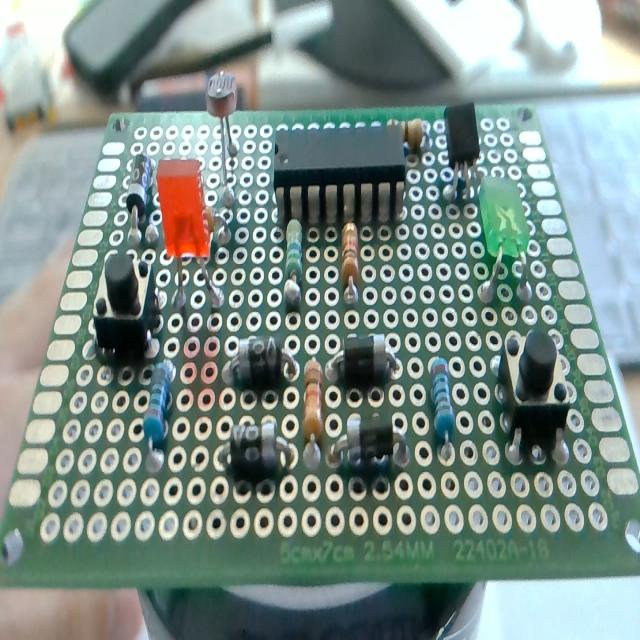IC: (271, 125, 406, 222)
cds: (204, 67, 241, 201)
diode: (215, 414, 293, 478), (331, 409, 409, 471), (326, 330, 402, 386), (224, 335, 296, 386), (127, 148, 154, 242)
led: (154, 156, 221, 304), (474, 173, 536, 307)
resistor: (140, 354, 176, 458), (424, 348, 458, 458), (303, 353, 328, 468), (337, 215, 364, 304), (279, 219, 305, 295)
switch: (491, 331, 572, 456), (94, 247, 160, 361)
transistor: (442, 98, 484, 188)
